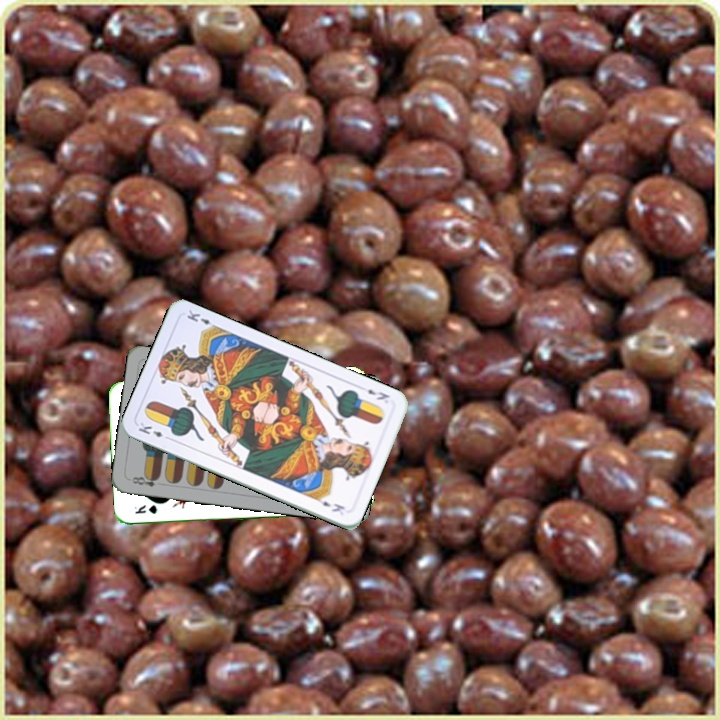E8: (128, 471, 162, 489)
EK: (134, 418, 174, 443), (364, 385, 392, 403)
GK: (131, 501, 162, 516)
